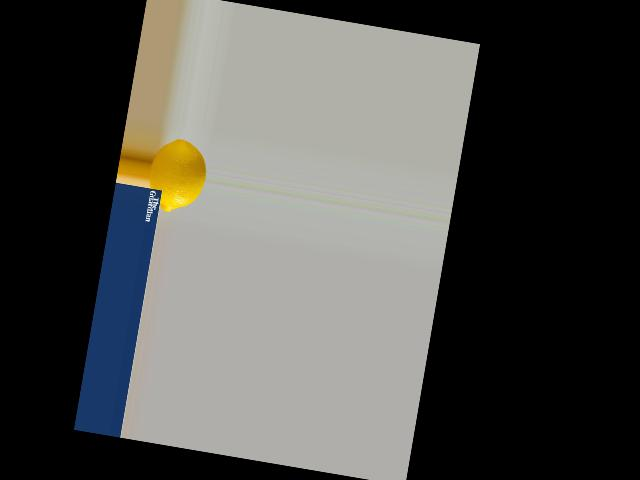lemon: (143, 134, 211, 215)
